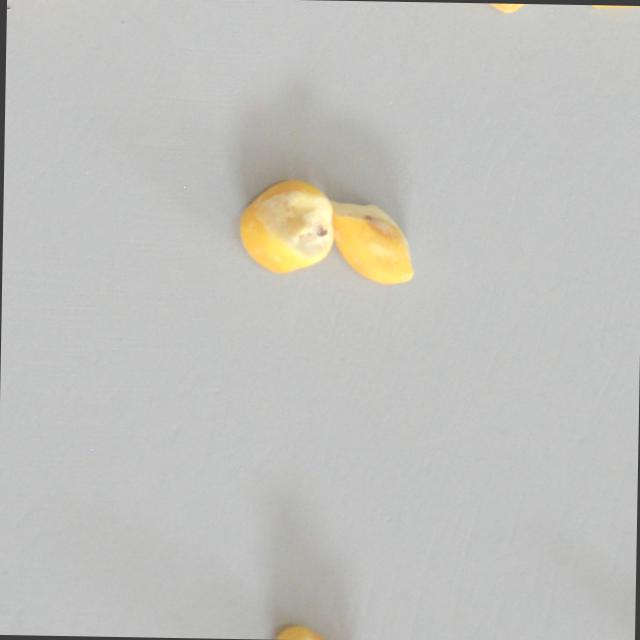dañado: (230, 175, 340, 278), (322, 188, 420, 290), (264, 616, 374, 640)
pelicula: (437, 2, 553, 17)
